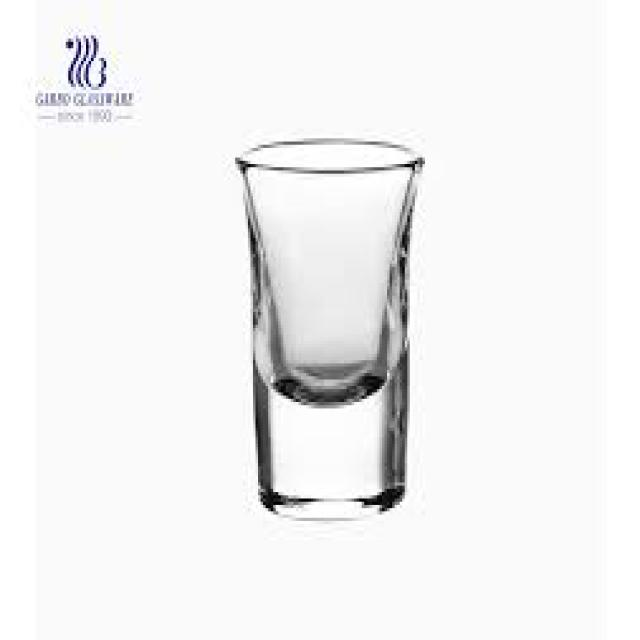glass: (235, 138, 422, 518)
